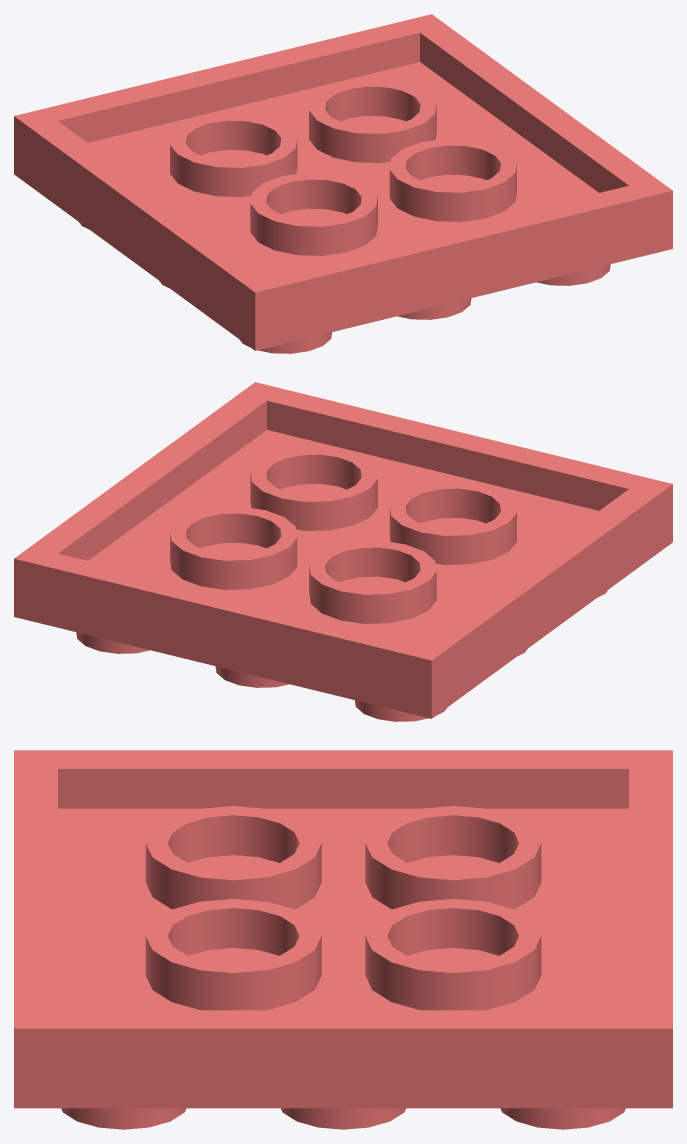
3 views of the same model, one above another, from view 1: azimuth 30°, elevation 25°; view 2: azimuth 150°, elevation 25°; view 3: azimuth 270°, elevation 25° (orthographic). The views are drawn at different scales.
Parts seen in each view (by area): view 1: LDrawPart; view 2: LDrawPart; view 3: LDrawPart.
Boxes of the visible parts, box(x1,y1,x2,y2) form: LDrawPart: box(14, 14, 672, 353); LDrawPart: box(14, 382, 672, 721); LDrawPart: box(14, 750, 672, 1129).
Size of the model in its own units: 0.42 by 0.084 by 0.42.
